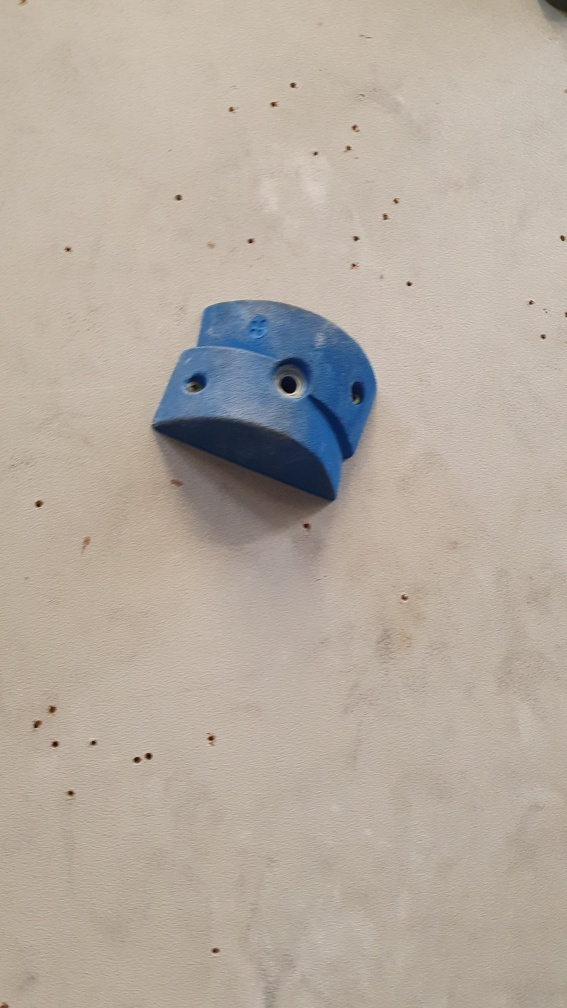Pinch: (145, 291, 383, 506)
